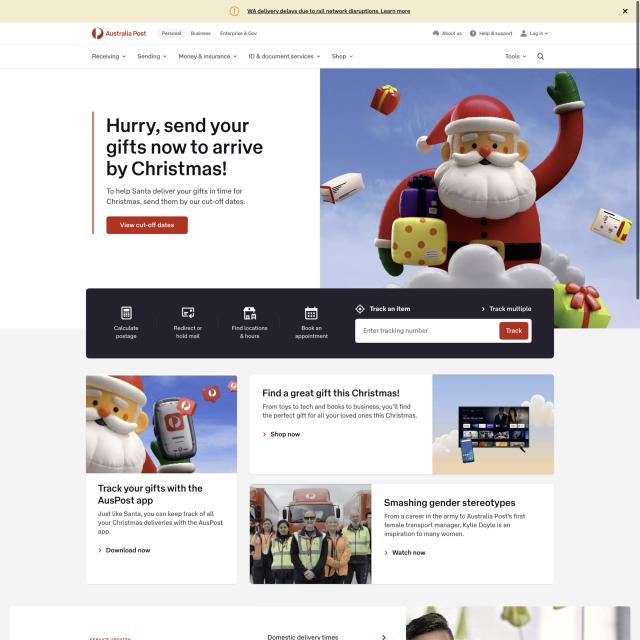input: (355, 318, 532, 344)
logo: (90, 26, 150, 40)
navigation: (89, 50, 532, 62), (158, 28, 258, 39)
